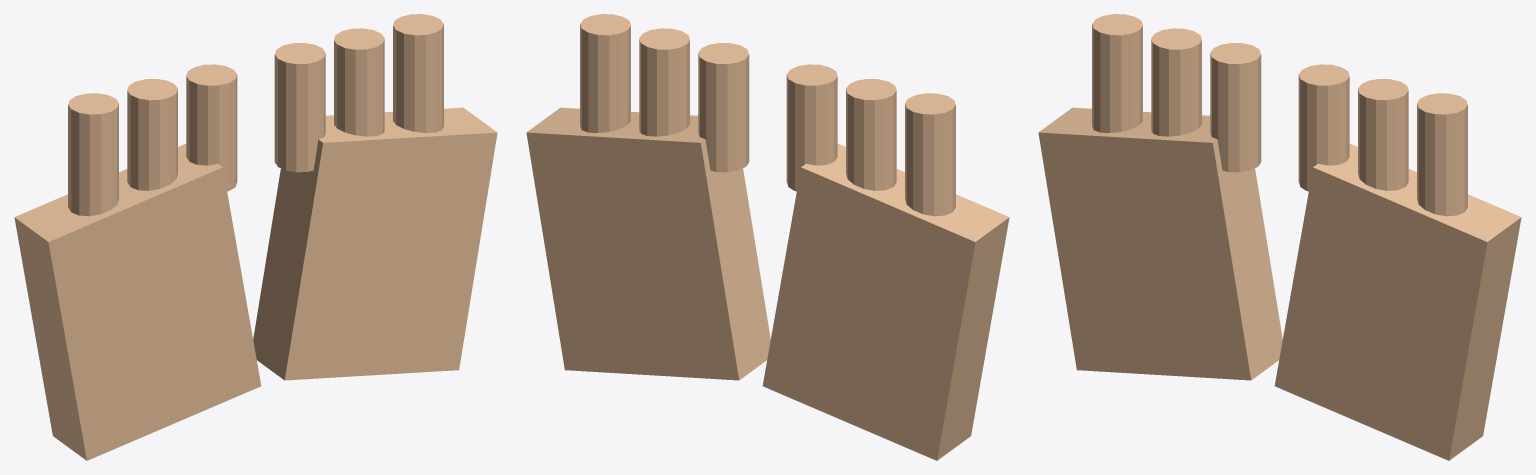
Rendered from Item_KuchyKuchKu.obj.
The picture shows the model from 3 angles, left to right: view 1: azimuth 30°, elevation 25°; view 2: azimuth 150°, elevation 25°; view 3: azimuth 330°, elevation 25°; orthographic projection.
Parts seen in each view (by area): view 1: Item_KuchyKuchKu; view 2: Item_KuchyKuchKu; view 3: Item_KuchyKuchKu.
Part boxes in pixels (x1,y1,x2,y2): Item_KuchyKuchKu: (14, 14, 497, 460); Item_KuchyKuchKu: (526, 14, 1009, 460); Item_KuchyKuchKu: (1038, 14, 1521, 460).
Bounding box in the file's own units: 0.6084 × 0.4386 × 0.08.
